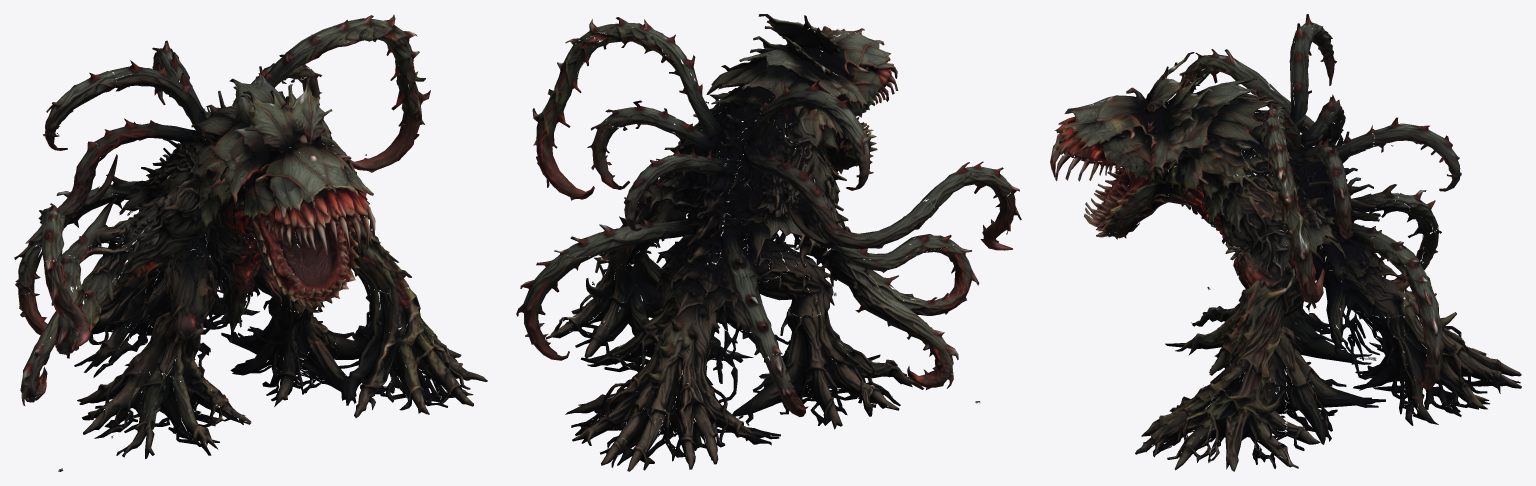
3 views of the same model, side by side, from view 1: azimuth 30°, elevation 25°; view 2: azimuth 150°, elevation 25°; view 3: azimuth 270°, elevation 25° (orthographic). The views are drawn at different scales.
Visible parts, largest first — view 1: world; view 2: world; view 3: world.
Boxes of the visible parts, x1=… form: world: x1=14, y1=14, x2=487, y2=471; world: x1=516, y1=14, x2=1021, y2=471; world: x1=1050, y1=14, x2=1521, y2=471.
Size of the model in its own units: 1 by 0.7481 by 0.989.
1 material, 1 textured.
